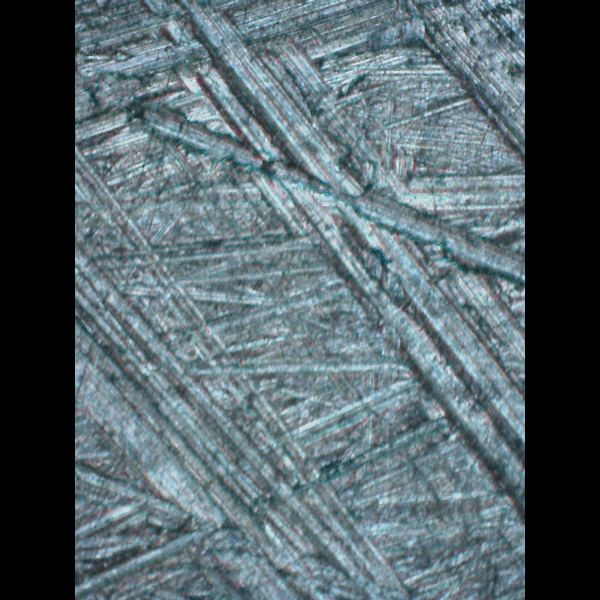d: (181, 0, 524, 553), (74, 151, 418, 599), (392, 0, 524, 164)
